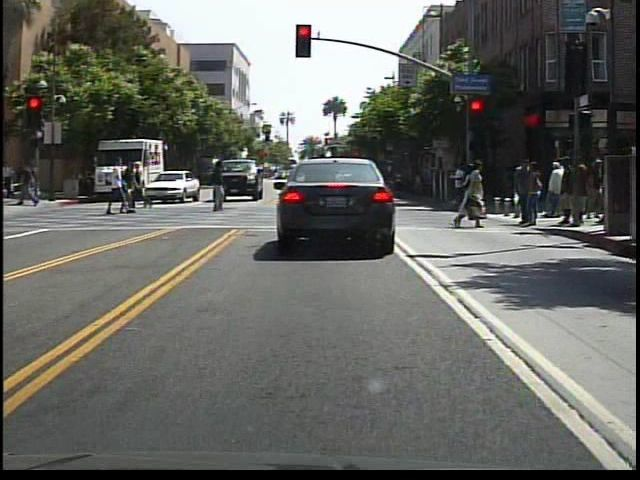person: (311, 127, 348, 239), (453, 160, 495, 232), (207, 159, 235, 216), (548, 152, 569, 224), (104, 156, 127, 220), (15, 161, 44, 209), (129, 159, 150, 213), (123, 163, 142, 215)
